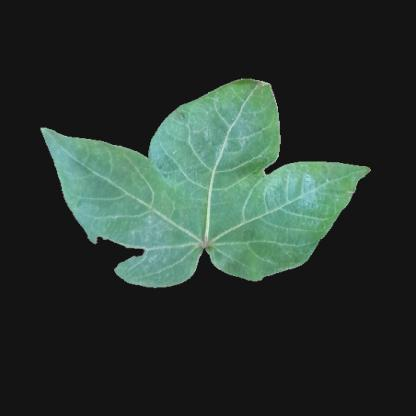healthy: (112, 155, 254, 229), (255, 175, 321, 252), (157, 109, 265, 151), (136, 237, 194, 282), (67, 142, 109, 196), (224, 230, 259, 272), (322, 165, 352, 203)
